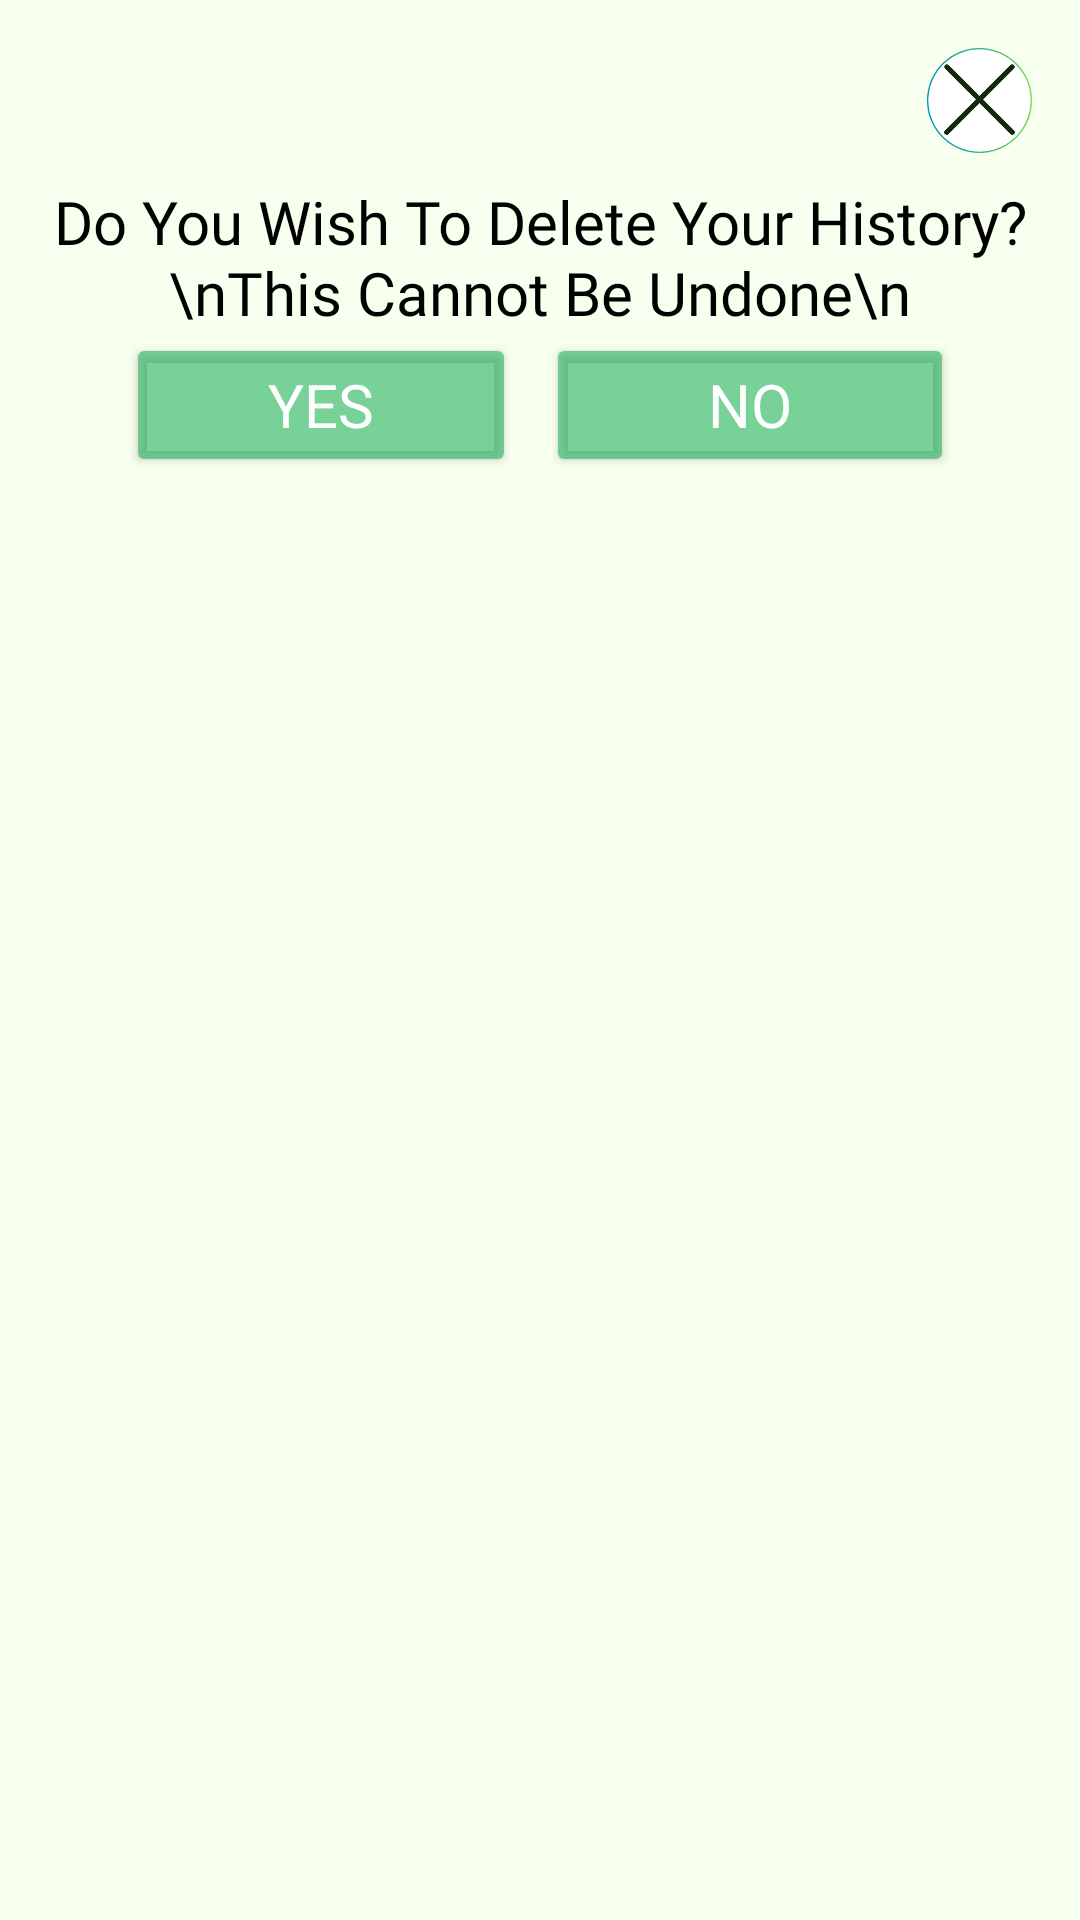

Point at icon controls on the screen. Image size 1080*1920, points as point (x, y).
exit: point (979, 100)
